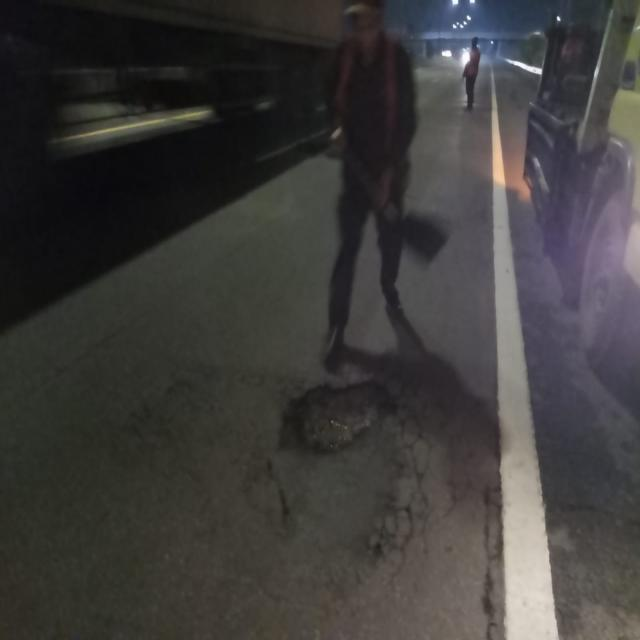Buraco: (286, 377, 402, 457)
